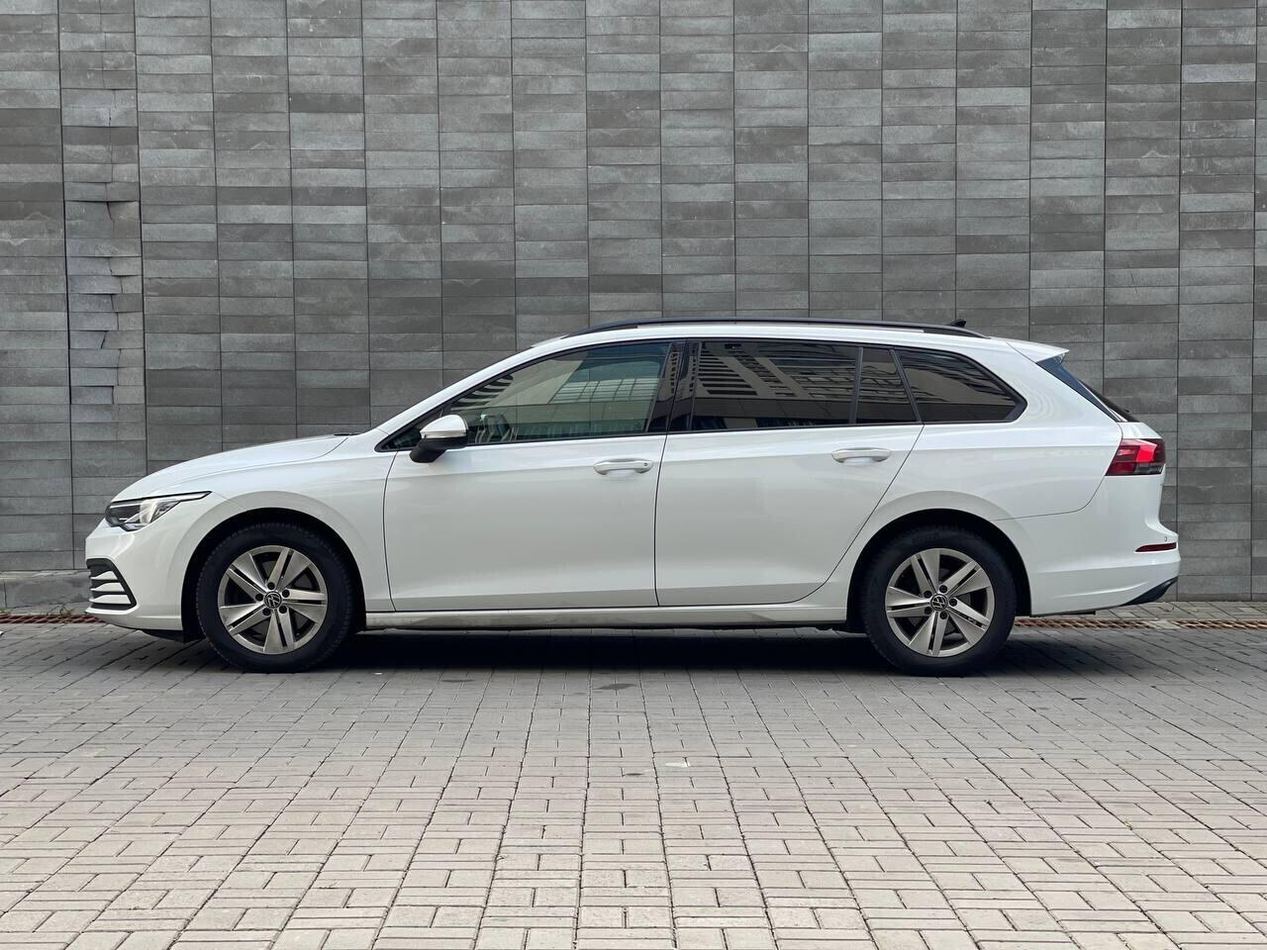Golf_2019: (84, 319, 1179, 675)
